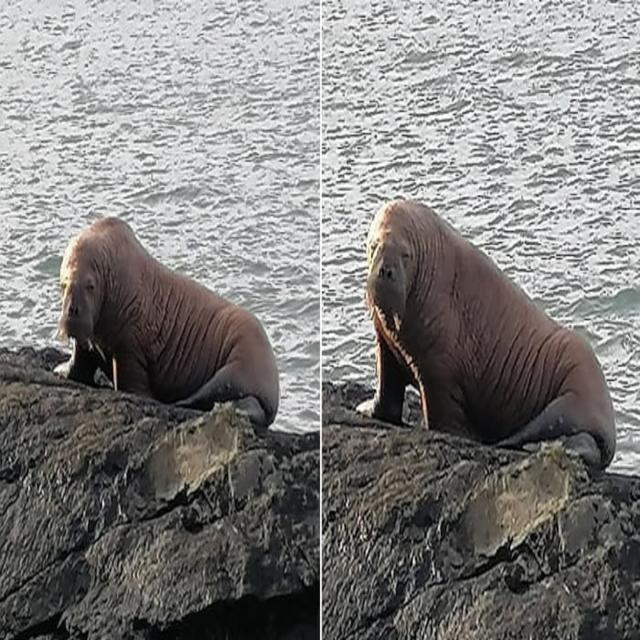walrus: (359, 164, 616, 492), (45, 218, 299, 470)
